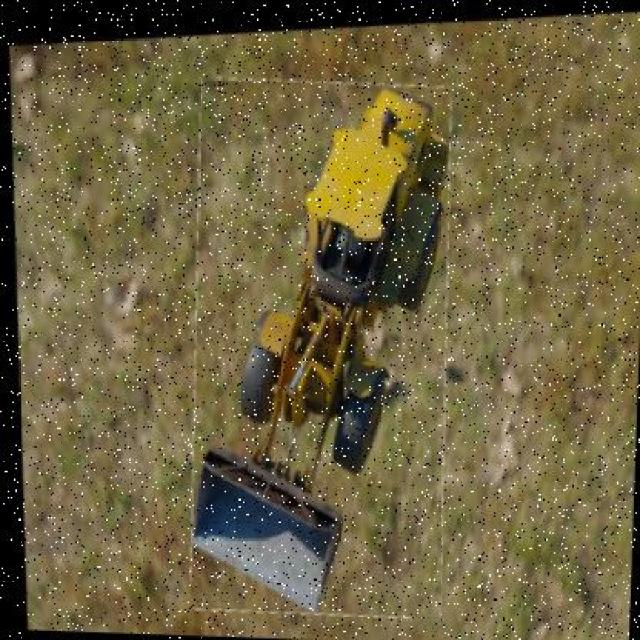buldozerpayloadergrader: (192, 80, 450, 617)
